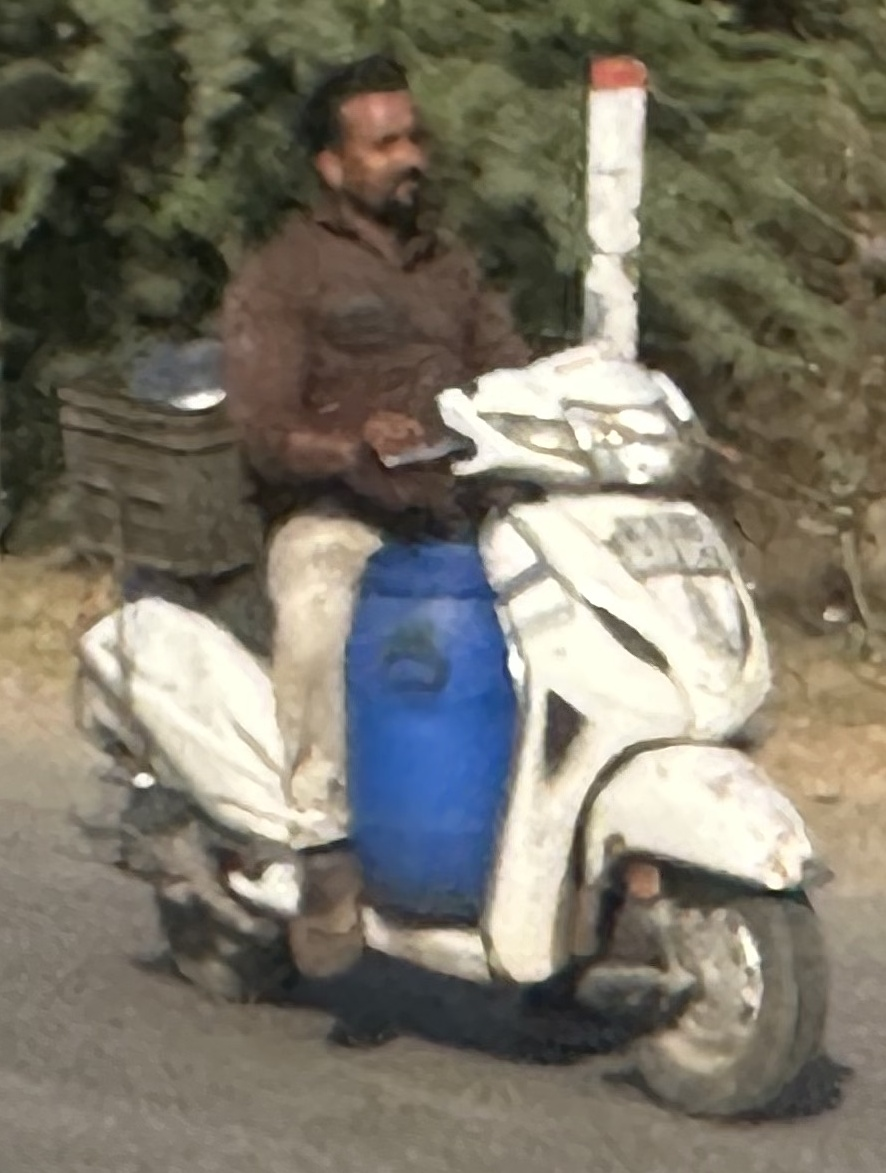BikeWithRider: (32, 38, 846, 1130)
NoHelmet: (284, 46, 462, 252)
